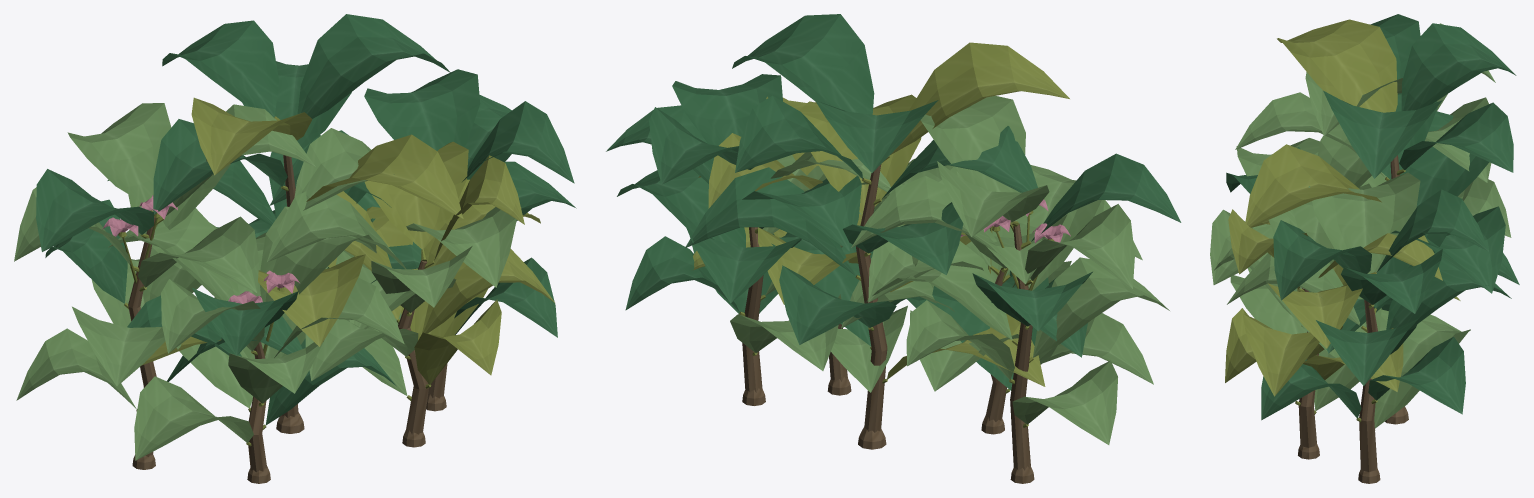
The model's file is AST-BOT-002_pool_loggia_mass_00.glb.
3 renders of one model, left to right at view 1: azimuth 30°, elevation 25°; view 2: azimuth 150°, elevation 25°; view 3: azimuth 270°, elevation 25°, orthographic. The views are drawn at different scales.
Visible parts, largest first — view 1: AST-BOT-002_pool_loggia_mass_00; view 2: AST-BOT-002_pool_loggia_mass_00; view 3: AST-BOT-002_pool_loggia_mass_00.
Boxes of the visible parts, x1,y1,x2,y2 form: AST-BOT-002_pool_loggia_mass_00: (14,14,576,483); AST-BOT-002_pool_loggia_mass_00: (606,14,1181,483); AST-BOT-002_pool_loggia_mass_00: (1210,14,1519,483).
Bounding box in the file's own units: 2.28 × 1.51 × 1.18.
5 materials, 5 textured.
